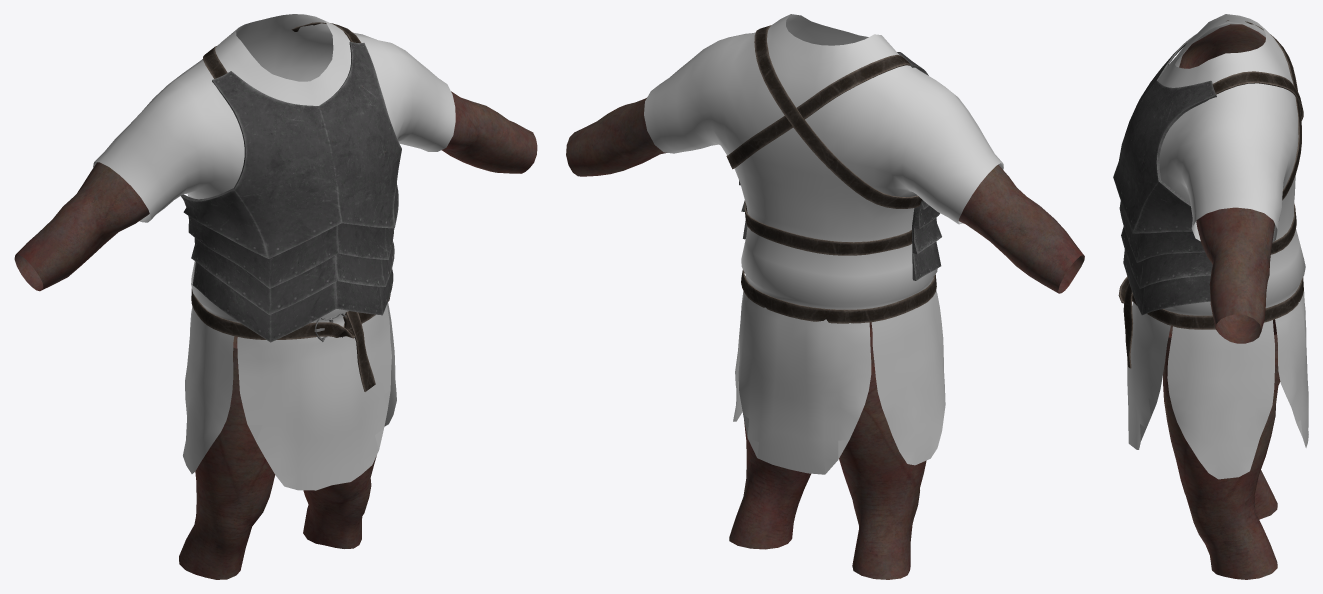
The model's file is sk_uruk_hai_plate_med_b2.fbx.
The picture shows the model from 3 angles, left to right: view 1: azimuth 30°, elevation 25°; view 2: azimuth 150°, elevation 25°; view 3: azimuth 270°, elevation 25°; orthographic projection. The views are drawn at different scales.
Visible parts, largest first — view 1: sk_uruk_hai_plate_med_b2.2, sk_uruk_hai_plate_med_b2.1, sk_uruk_hai_plate_med_b2.body.0, sk_uruk_hai_plate_med_b2.body.1, sk_uruk_hai_plate_med_b2.0; view 2: sk_uruk_hai_plate_med_b2.2, sk_uruk_hai_plate_med_b2.body.0, sk_uruk_hai_plate_med_b2.body.1, sk_uruk_hai_plate_med_b2.0, sk_uruk_hai_plate_med_b2.1; view 3: sk_uruk_hai_plate_med_b2.2, sk_uruk_hai_plate_med_b2.1, sk_uruk_hai_plate_med_b2.body.0, sk_uruk_hai_plate_med_b2.body.1, sk_uruk_hai_plate_med_b2.0.
Part boxes in pixels (left/top/right/bottom): sk_uruk_hai_plate_med_b2.2: left=93, top=14, right=455, bottom=490; sk_uruk_hai_plate_med_b2.1: left=181, top=42, right=401, bottom=342; sk_uruk_hai_plate_med_b2.body.0: left=179, top=336, right=376, bottom=579; sk_uruk_hai_plate_med_b2.body.1: left=14, top=91, right=537, bottom=291; sk_uruk_hai_plate_med_b2.0: left=184, top=22, right=390, bottom=391; sk_uruk_hai_plate_med_b2.2: left=644, top=14, right=1003, bottom=474; sk_uruk_hai_plate_med_b2.body.0: left=729, top=322, right=926, bottom=579; sk_uruk_hai_plate_med_b2.body.1: left=566, top=98, right=1084, bottom=293; sk_uruk_hai_plate_med_b2.0: left=726, top=25, right=936, bottom=323; sk_uruk_hai_plate_med_b2.1: left=739, top=52, right=941, bottom=280; sk_uruk_hai_plate_med_b2.2: left=1127, top=14, right=1308, bottom=479; sk_uruk_hai_plate_med_b2.1: left=1113, top=34, right=1216, bottom=315; sk_uruk_hai_plate_med_b2.body.0: left=1163, top=319, right=1280, bottom=579; sk_uruk_hai_plate_med_b2.body.1: left=1179, top=24, right=1274, bottom=343; sk_uruk_hai_plate_med_b2.0: left=1118, top=20, right=1303, bottom=368.
Bounding box in the file's own units: 1.2 × 0.4161 × 1.19.
